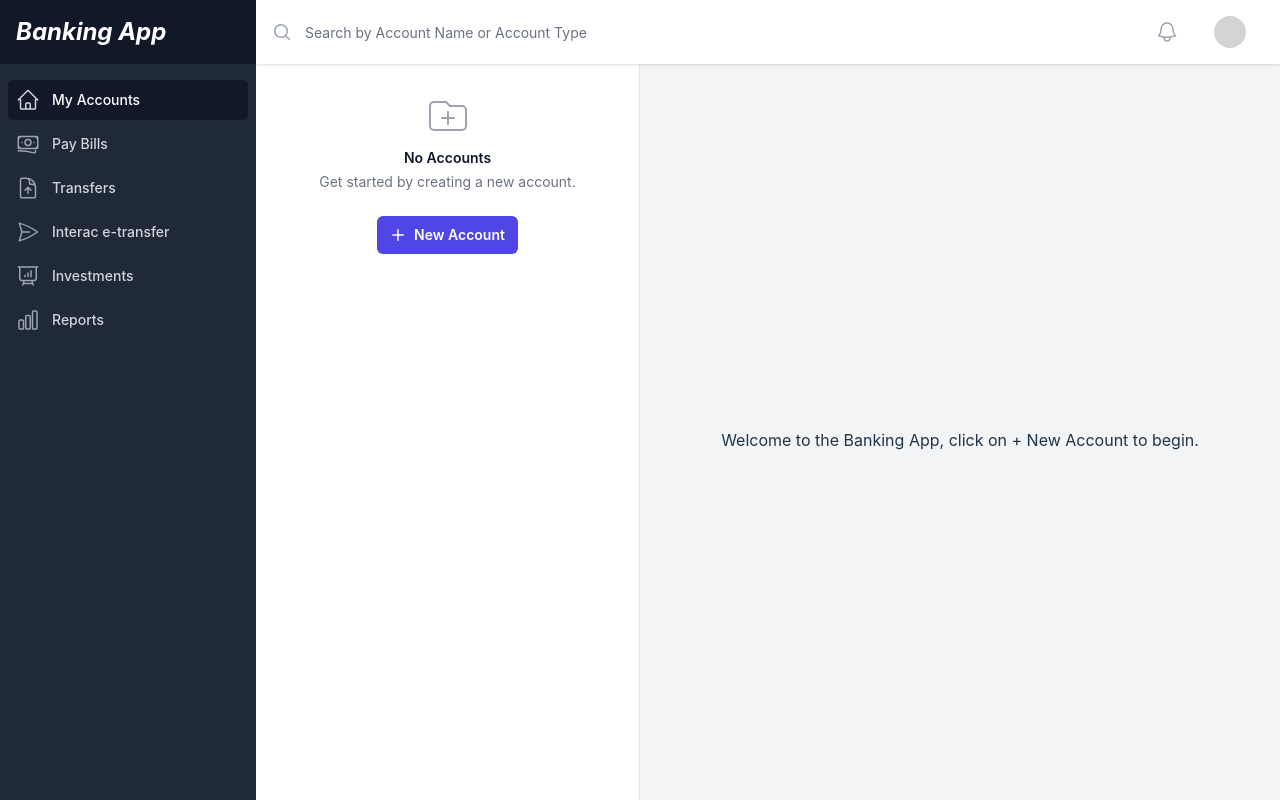
it: transactions › shouldn't allow the user to deposit zero or less than 0 amount to bank account
The width and height of the screenshot is (1280, 800).
Click the button with test id "newAccountSideBar": (448, 235) [377,216,518,254]
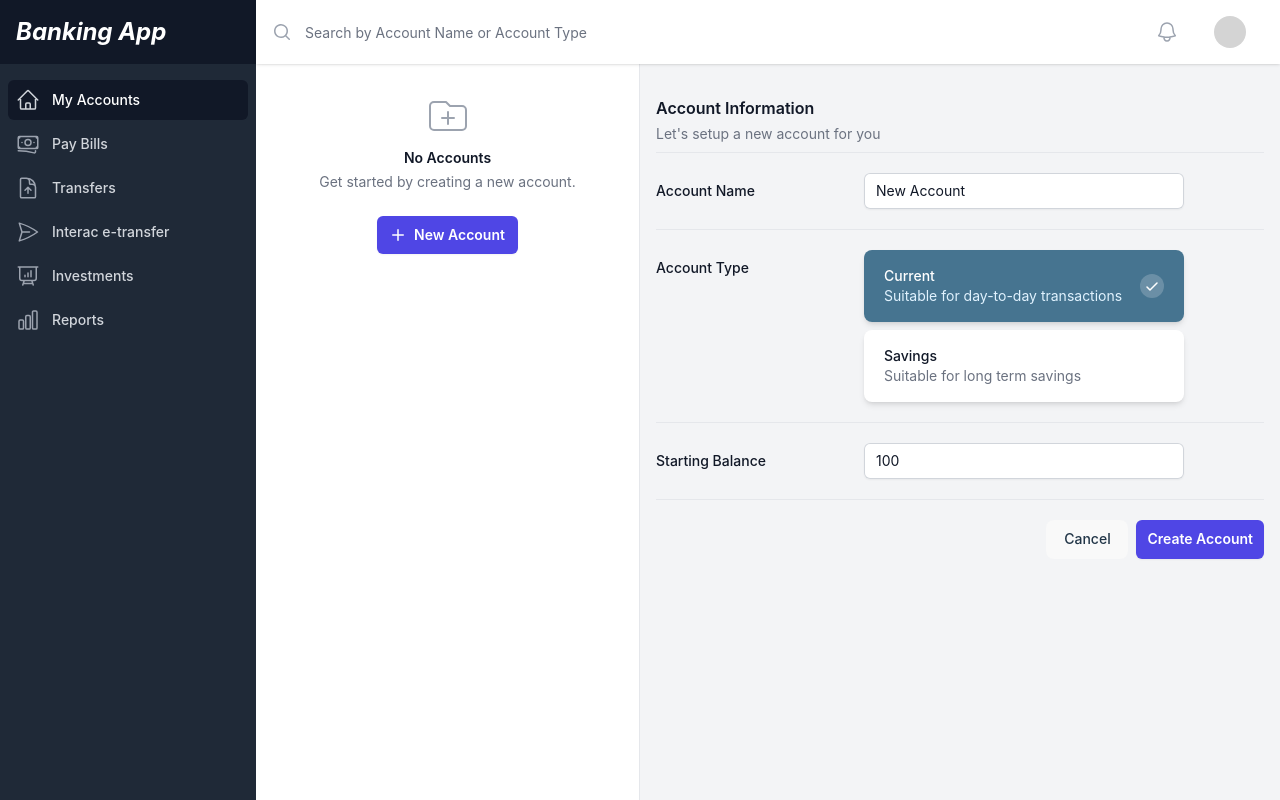
Expected: the heading "Account Information" is shown, [656,98,814,118]
Replace the text in the field with id "account-name" with "Test Account 1": (1024, 191) [864,173,1184,209]
Replace the text in the number field with id "starting-balance" with "1000": (1024, 461) [864,443,1184,479]
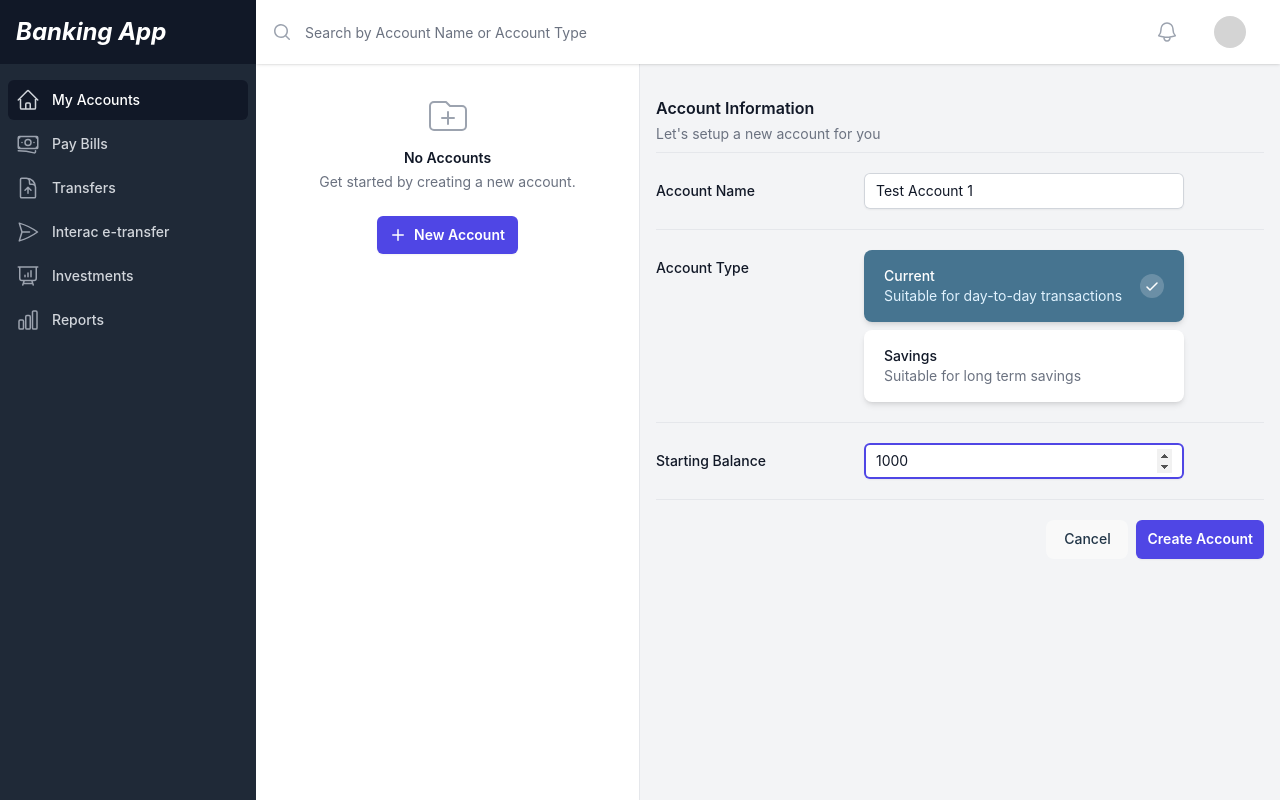
Click the button with test id "createAccount": (1201, 540) [1137,520,1265,559]
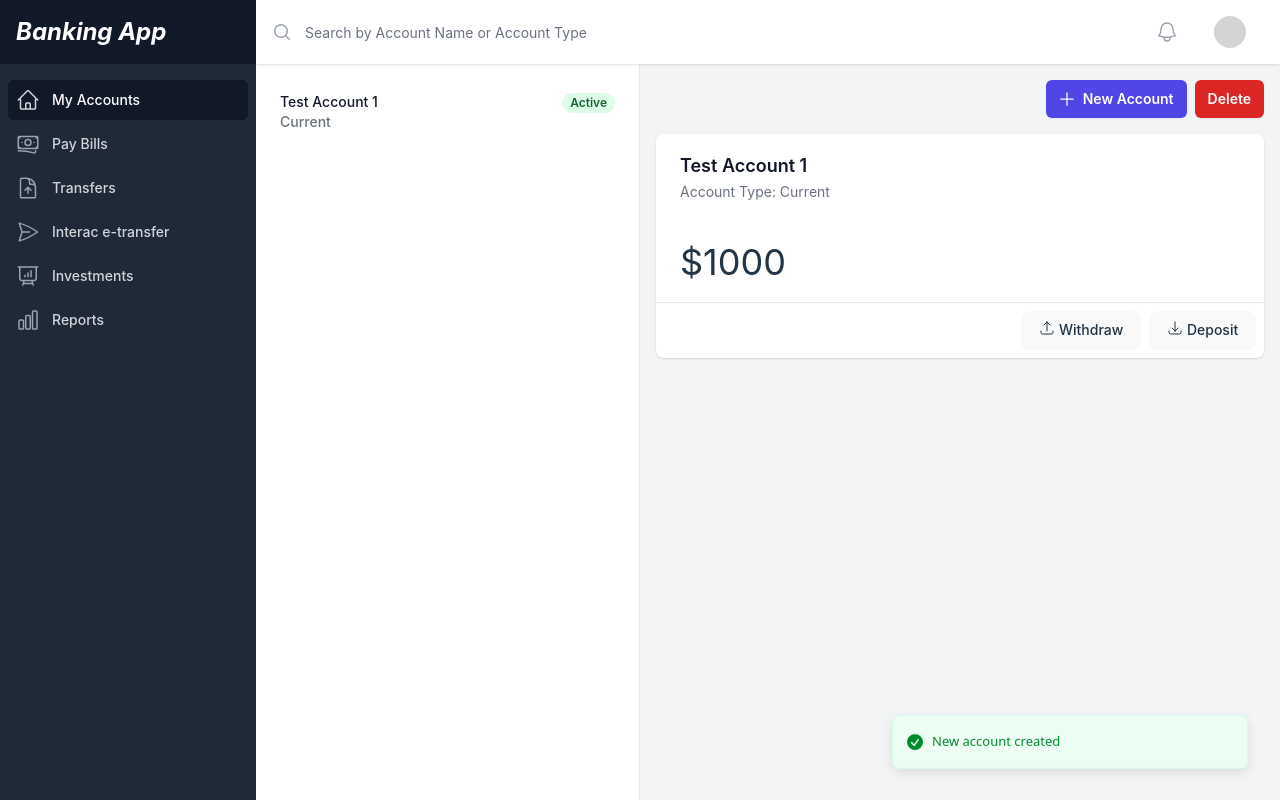
Click the button with test id "deposit": (1203, 331) [1149,311,1256,350]
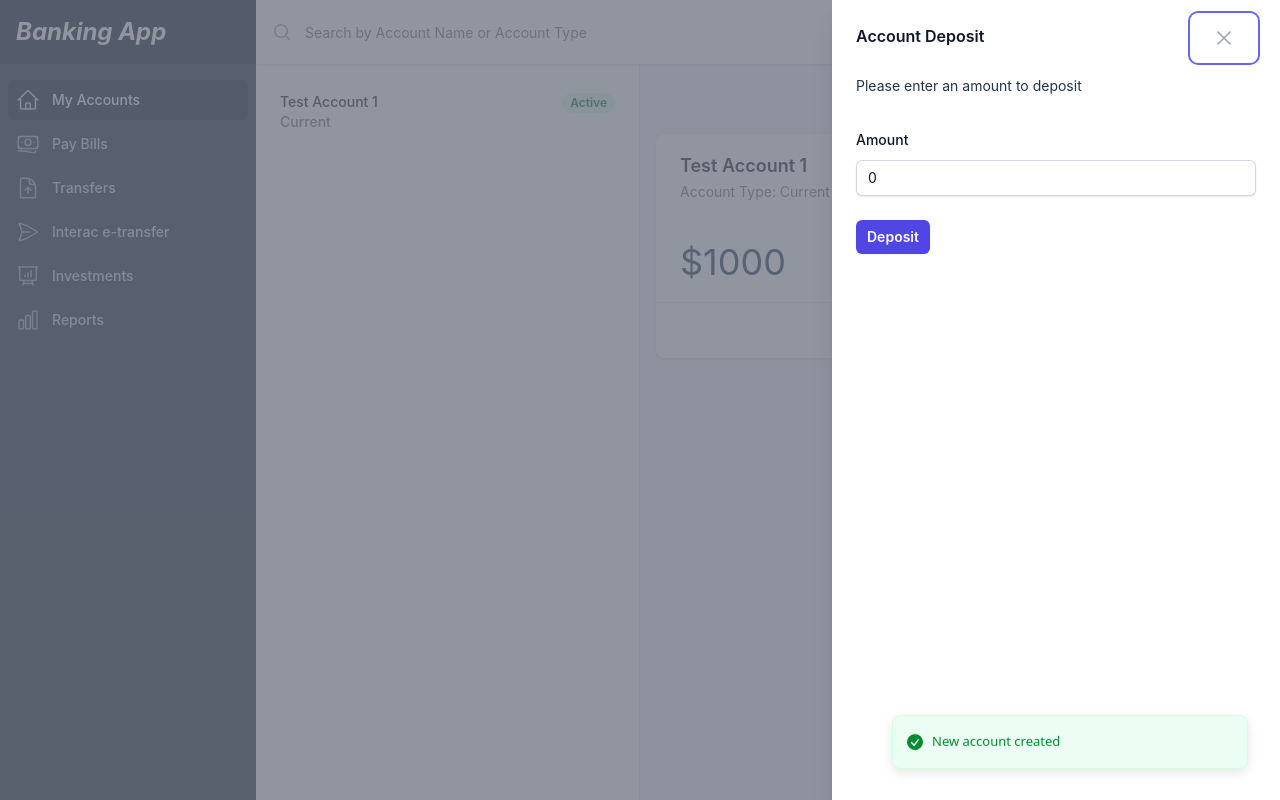
Replace the text in the number field with id "amount" with "-10": (1056, 178) [856,160,1256,196]
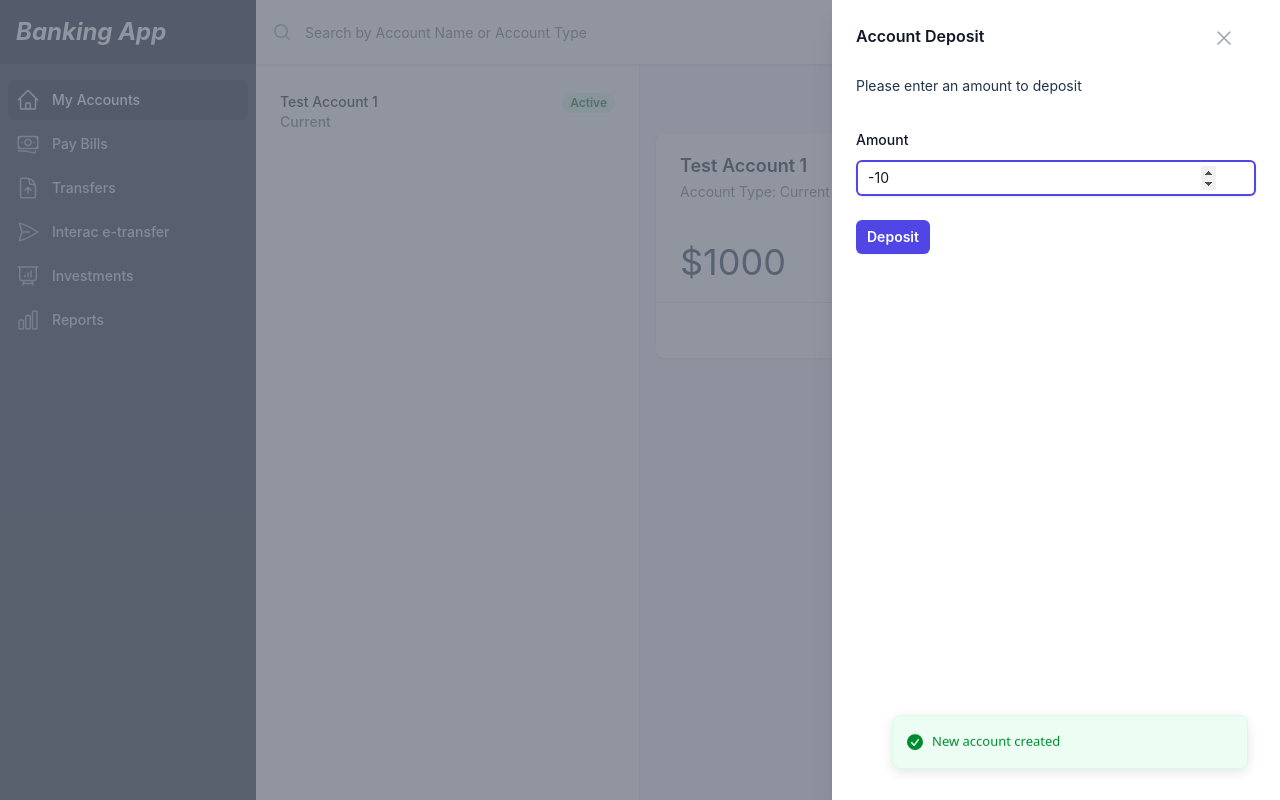
Click the button with test id "submitDeposit": (893, 237) [856,220,930,254]
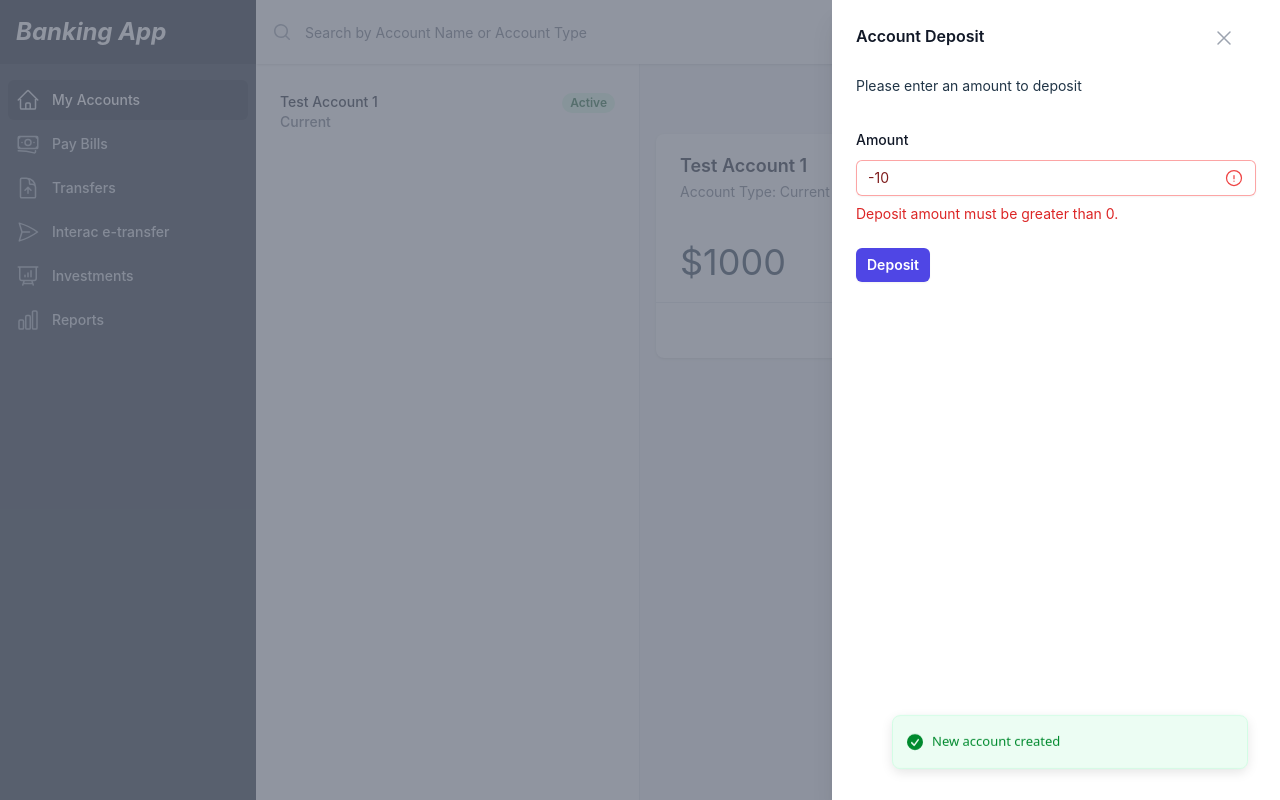
Now the text with id "amount-error" reads "Deposit amount must be greater than 0.", box [856,205,1118,222]
